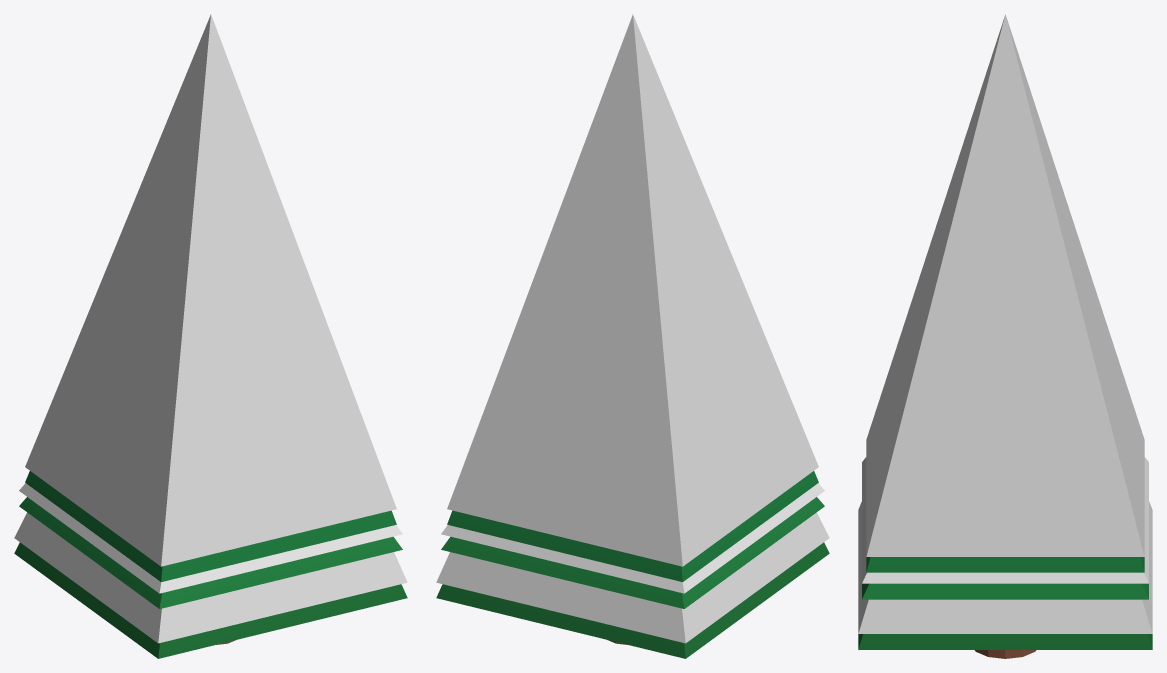
File: Tree_34_winter_gradient_green_pal.fbx
3 views of the same model, side by side, from view 1: azimuth 30°, elevation 25°; view 2: azimuth 150°, elevation 25°; view 3: azimuth 270°, elevation 25° (orthographic). The views are drawn at different scales.
Visible parts, largest first — view 1: Tree_34_winter_gradient_green_pal; view 2: Tree_34_winter_gradient_green_pal; view 3: Tree_34_winter_gradient_green_pal.
Part boxes in pixels (x1,y1,x2,y2): Tree_34_winter_gradient_green_pal: (14, 14, 407, 658); Tree_34_winter_gradient_green_pal: (436, 14, 829, 658); Tree_34_winter_gradient_green_pal: (858, 14, 1152, 658).
Size of the model in its own units: 83.78 by 198 by 83.78.
